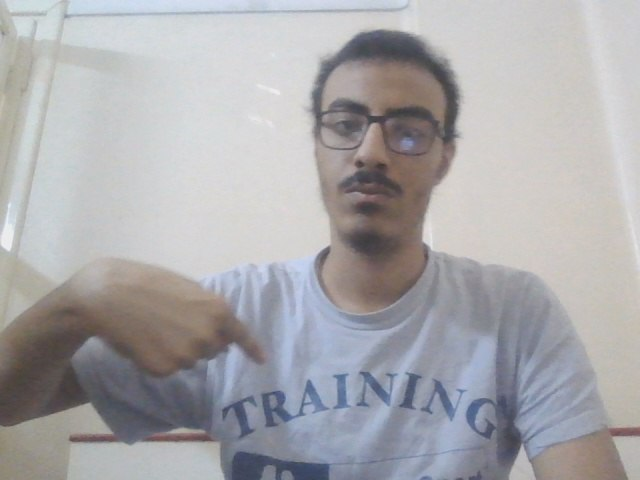Me: (74, 251, 272, 393)
